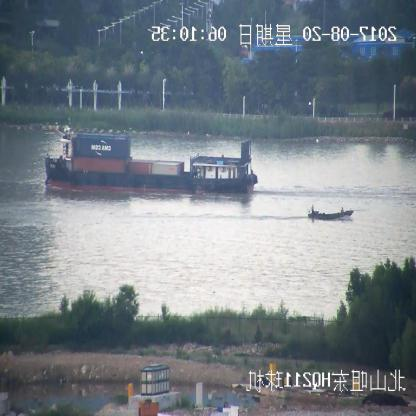Fishing Boat: (308, 206, 353, 222)
